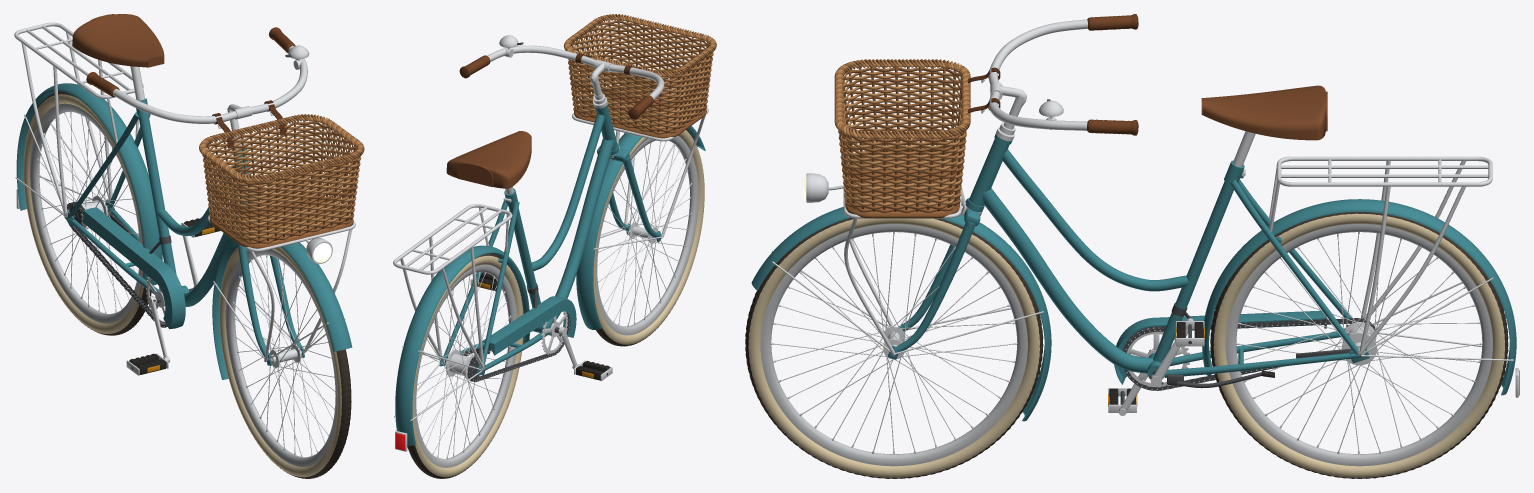
File: city-bicycle.glb
The picture shows the model from 3 angles, left to right: view 1: azimuth 30°, elevation 25°; view 2: azimuth 150°, elevation 25°; view 3: azimuth 270°, elevation 25°; orthographic projection. The views are drawn at different scales.
Visible parts, largest first — view 1: basket, wheel_front, wheel_rear, frame, fender_rear, rear_rack, fender_front, saddle, chain_guard, fork, crankset, handlebar (+5 smaller); view 2: basket, wheel_rear, wheel_front, frame, fender_rear, rear_rack, saddle, fender_front, chain_guard, fork, crankset, handlebar (+3 smaller); view 3: wheel_rear, wheel_front, basket, frame, rear_rack, fender_rear, saddle, fender_front, fork, crankset, handlebar, chain_guard (+3 smaller).
Part boxes in pixels (x1,y1,x2,y2): basket: (199, 114, 364, 248); wheel_front: (219, 246, 351, 478); wheel_rear: (23, 91, 151, 335); frame: (64, 98, 253, 306); fender_rear: (15, 83, 162, 285); rear_rack: (14, 22, 143, 217); fender_front: (212, 240, 352, 379); saddle: (72, 14, 164, 67); chain_guard: (83, 207, 185, 329); fork: (227, 104, 304, 365); crankset: (126, 217, 220, 375); handlebar: (112, 46, 307, 123); basket: (563, 14, 716, 138); wheel_rear: (407, 253, 523, 478); wheel_front: (593, 129, 704, 346); frame: (439, 103, 619, 375); fender_rear: (394, 245, 529, 451); rear_rack: (393, 204, 512, 370); saddle: (446, 131, 531, 188); fender_front: (576, 126, 705, 329); chain_guard: (482, 283, 576, 355); fork: (590, 60, 661, 242); crankset: (470, 272, 612, 381); handlebar: (487, 45, 664, 99); wheel_rear: (1210, 212, 1508, 478); wheel_front: (745, 218, 1043, 478); basket: (834, 59, 970, 218); frame: (966, 134, 1369, 379); rear_rack: (1269, 156, 1492, 354); fender_rear: (1202, 199, 1519, 397); saddle: (1201, 85, 1327, 140); fender_front: (751, 207, 1051, 421); fork: (888, 81, 1026, 359); crankset: (1108, 318, 1204, 415); handlebar: (988, 19, 1087, 130); chain_guard: (1114, 302, 1326, 384).
Bounding box in the file's own units: 0.6312 × 1.1 × 1.83.
